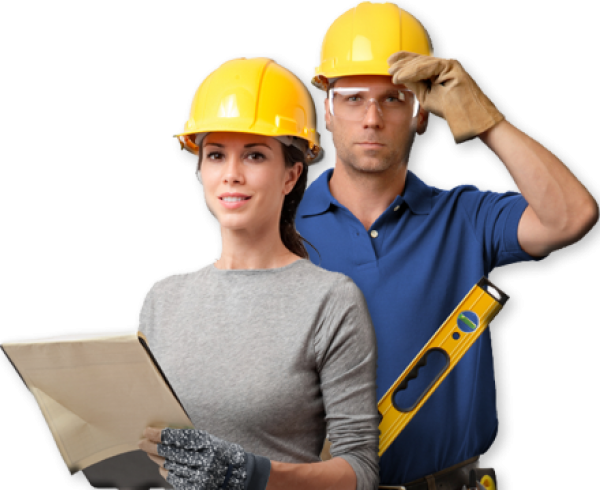Person_wearing_helmet: (300, 0, 440, 120), (182, 50, 303, 181)
